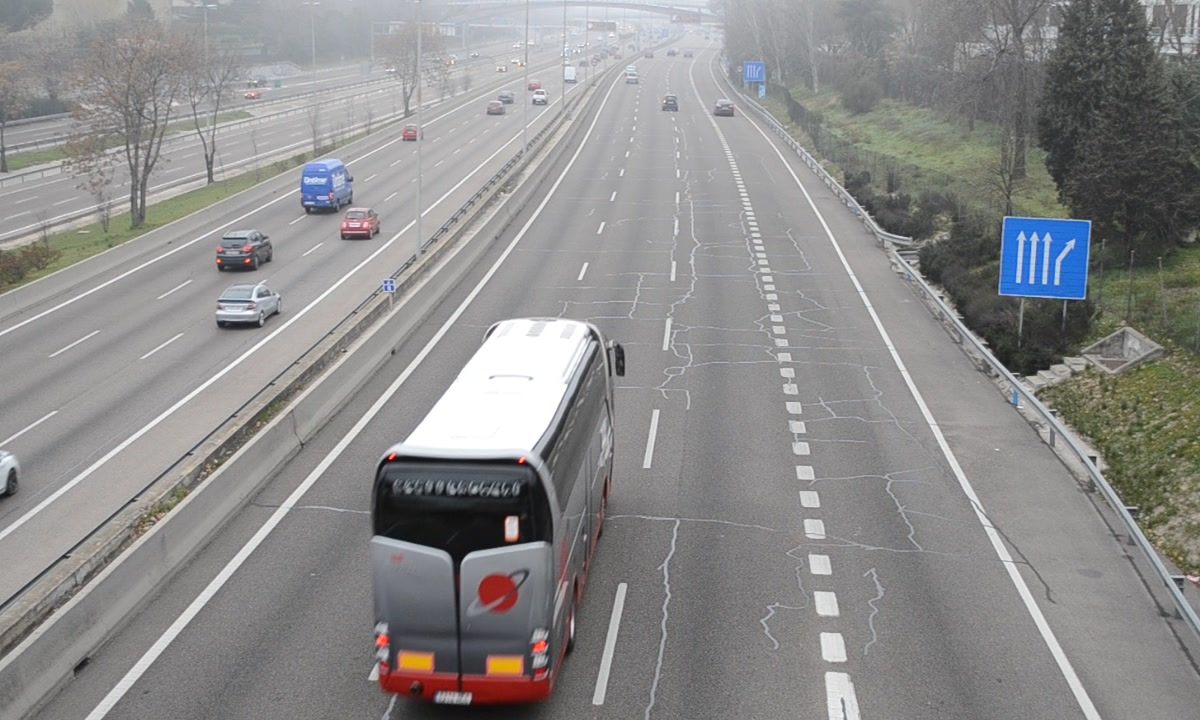bus: (369, 316, 615, 705)
car: (660, 93, 681, 114), (714, 99, 736, 118)
